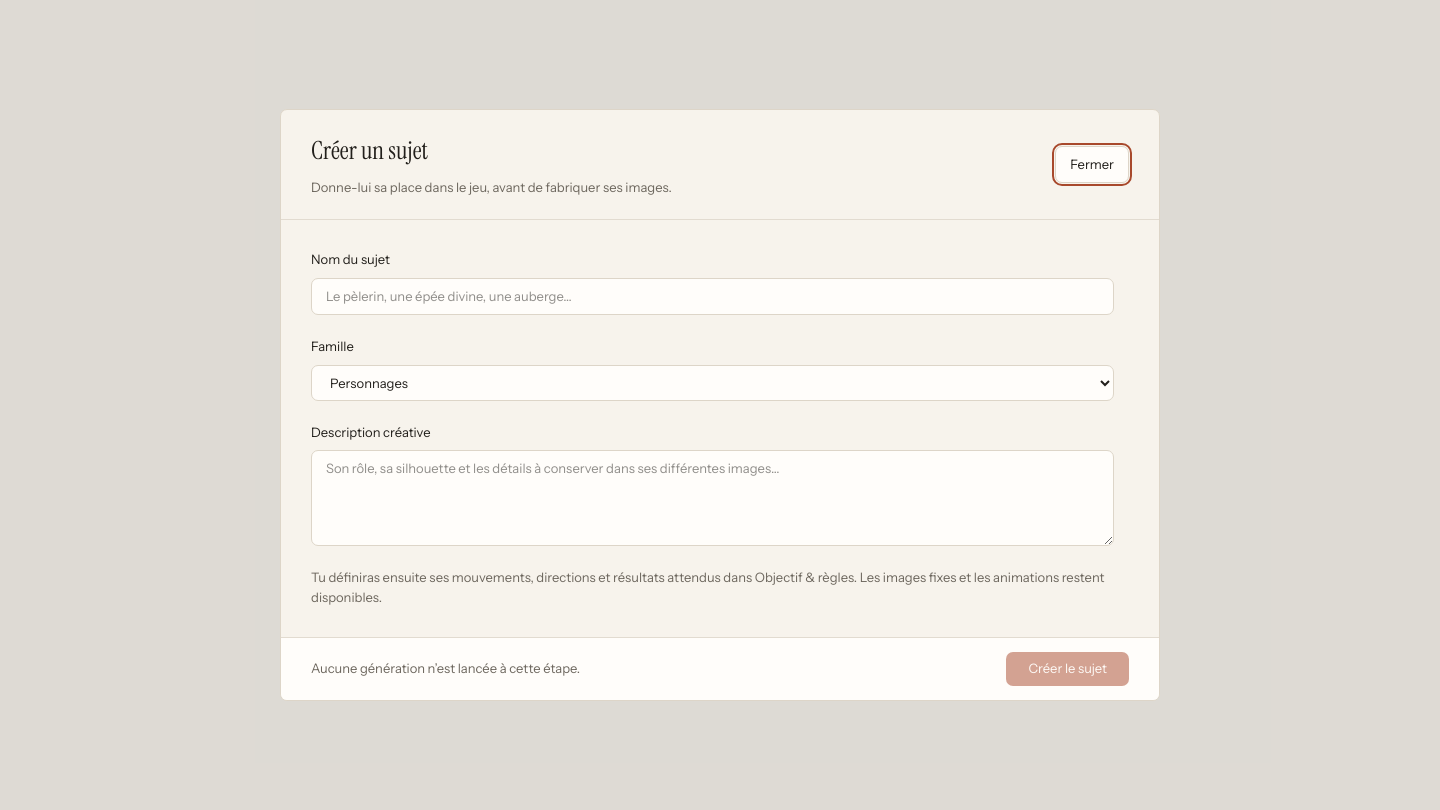
Test: un sujet sans nom ne part pas, et un refus laisse la saisie en place
Expected: the button "Créer le sujet" is disabled, left=1006, top=652, right=1129, bottom=686
Type "La sentinelle de contrôle" into the field labelled "Nom du sujet" at [712, 296], box left=311, top=278, right=1114, bottom=315
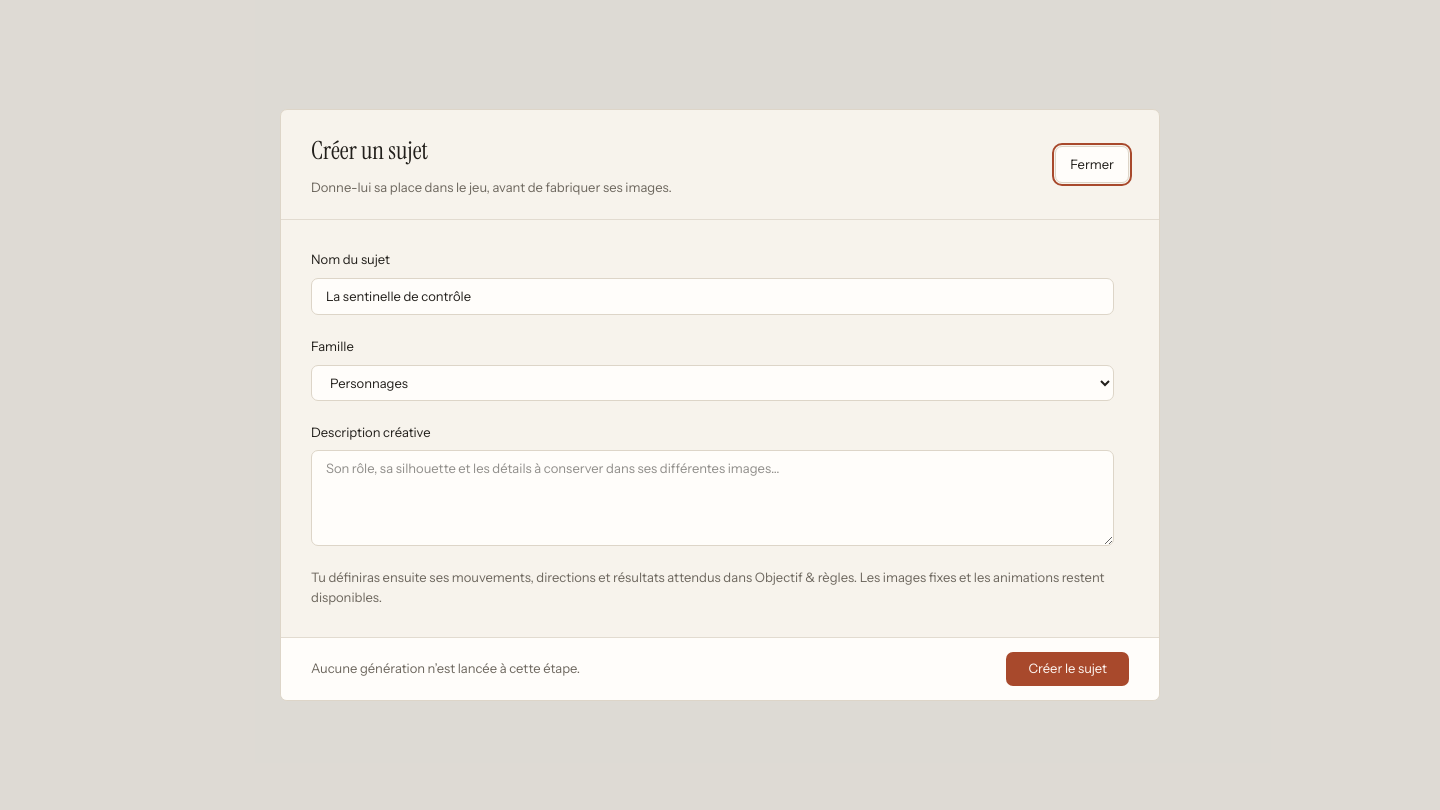
Click the button "Créer le sujet" at [1068, 669], box left=1006, top=652, right=1129, bottom=686
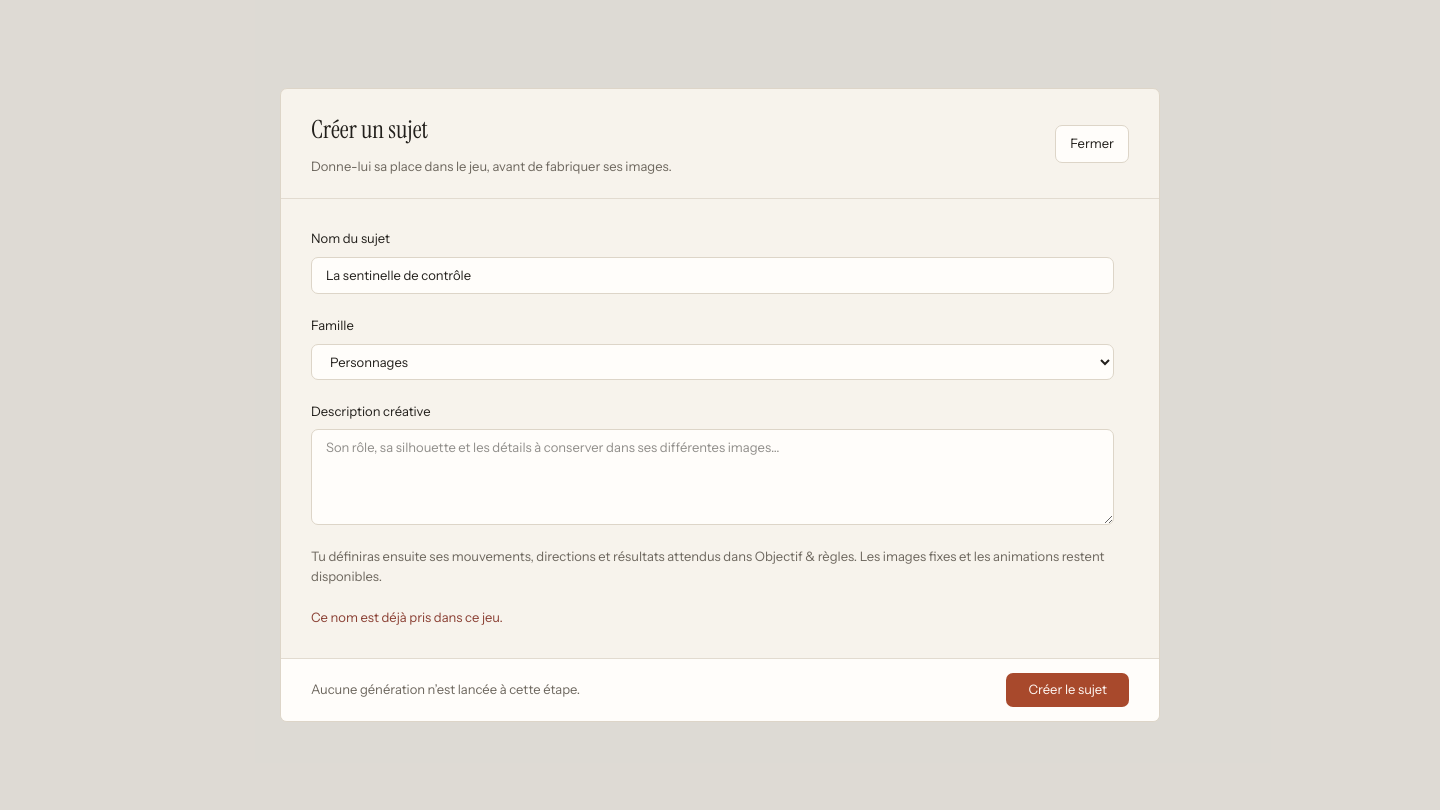
Result: the message shows "Ce nom est déjà pris" at left=311, top=609, right=503, bottom=625
